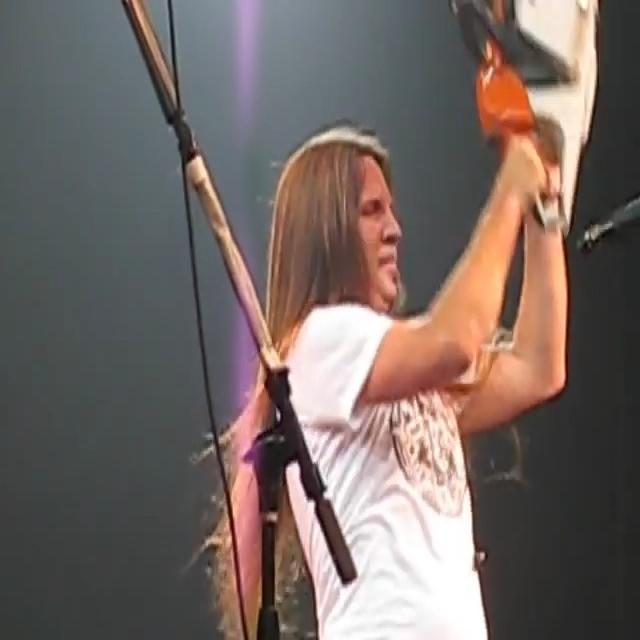Chainsaw: (439, 1, 608, 242)
